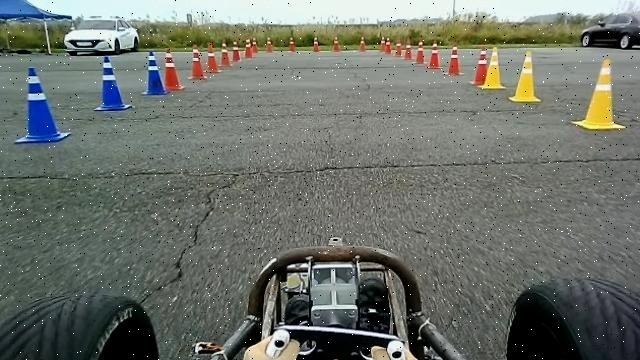blue cone: (13, 66, 71, 143), (93, 55, 132, 111), (140, 50, 169, 94)
red cone: (162, 48, 185, 90), (187, 44, 207, 79), (443, 45, 464, 76), (203, 42, 222, 73), (426, 40, 442, 68), (218, 40, 232, 67), (412, 41, 424, 64), (402, 38, 412, 60), (393, 38, 402, 57), (232, 39, 240, 60), (244, 38, 252, 58), (383, 37, 391, 54), (251, 36, 258, 52)
yellow cone: (571, 58, 625, 130), (508, 49, 541, 103)
